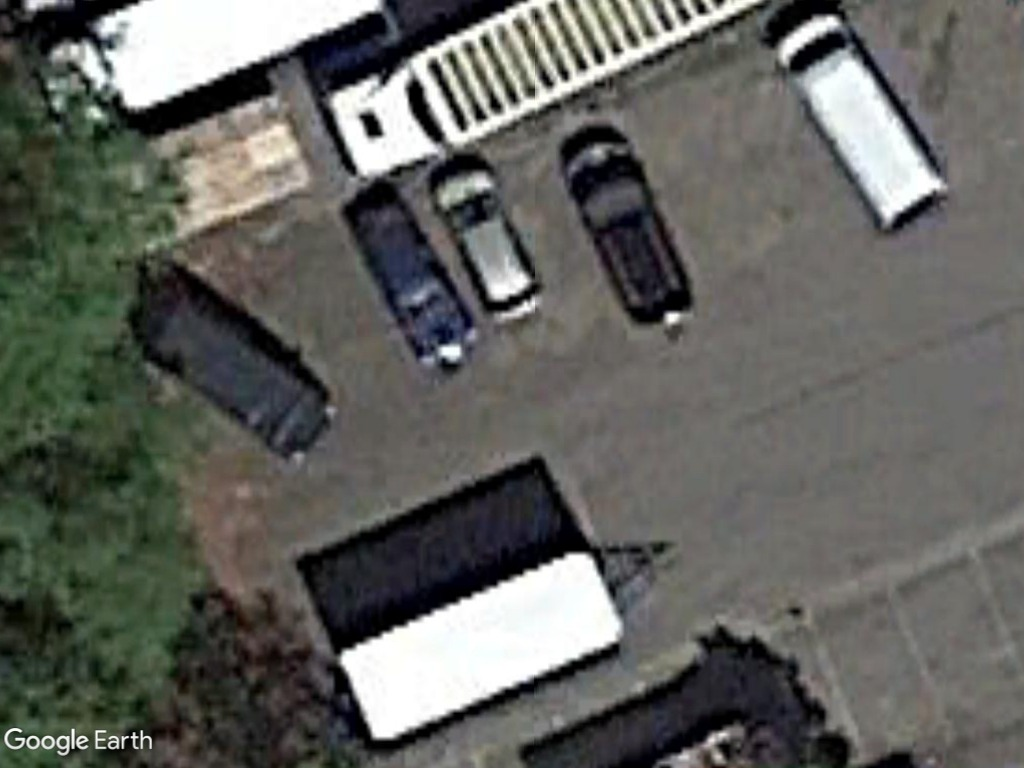car: (432, 162, 543, 320)
van: (764, 10, 954, 237)
